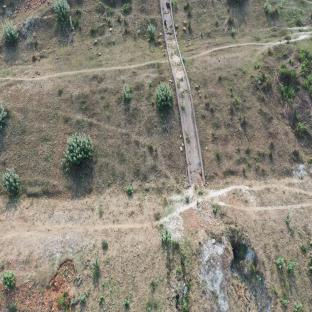slope_drain: (160, 0, 206, 186)
vegetation: (62, 135, 92, 167)
